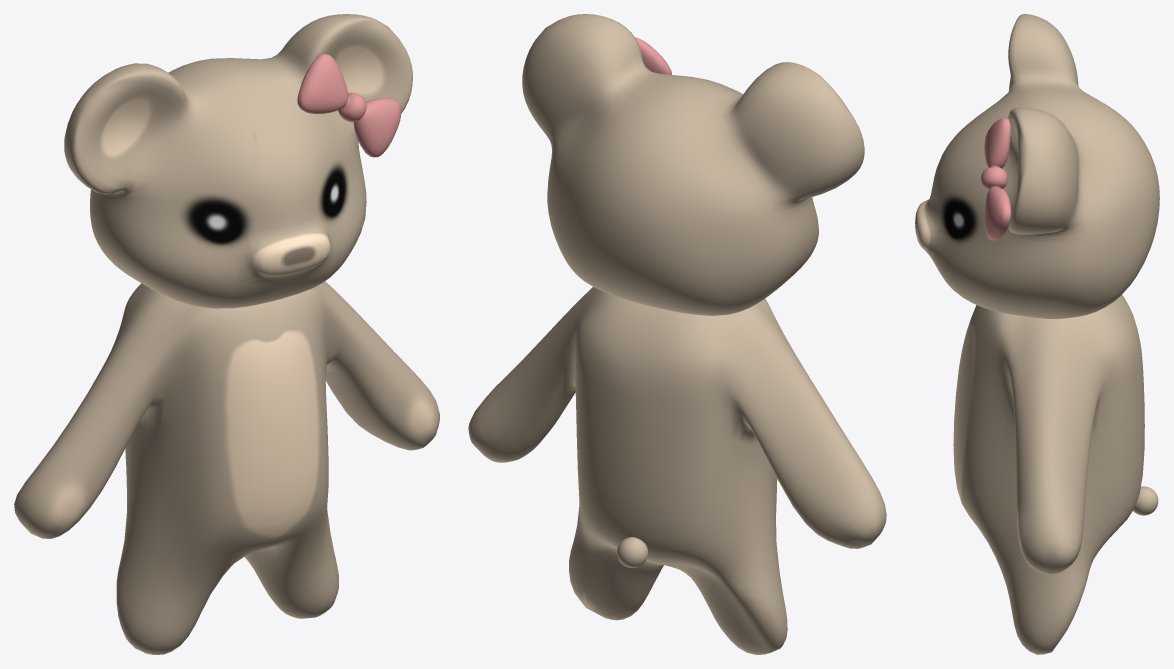
The model's file is mamabear_apose.fbx.
3 renders of one model, left to right at view 1: azimuth 30°, elevation 25°; view 2: azimuth 150°, elevation 25°; view 3: azimuth 270°, elevation 25°, orthographic. The views are drawn at different scales.
Visible parts, largest first — view 1: Roundcube.007, head 2.005, bow.002; view 2: Roundcube.007, head 2.005, Roundcube.008, bow.002; view 3: Roundcube.007, head 2.005, bow.002, Roundcube.008.
Part boxes in pixels (box(x1,y1,x2,y2)): Roundcube.007: box(14, 281, 439, 654); head 2.005: box(64, 14, 412, 308); bow.002: box(297, 53, 401, 157); Roundcube.007: box(468, 287, 886, 654); head 2.005: box(522, 14, 864, 315); Roundcube.008: box(617, 537, 648, 567); bow.002: box(635, 37, 671, 74); Roundcube.007: box(953, 295, 1144, 654); head 2.005: box(915, 14, 1159, 318); bow.002: box(981, 118, 1011, 240); Roundcube.008: box(1133, 486, 1158, 515).
Bounding box in the file's own units: 116 × 160 × 64.32.
Materials: 4 (3 with a texture image).
